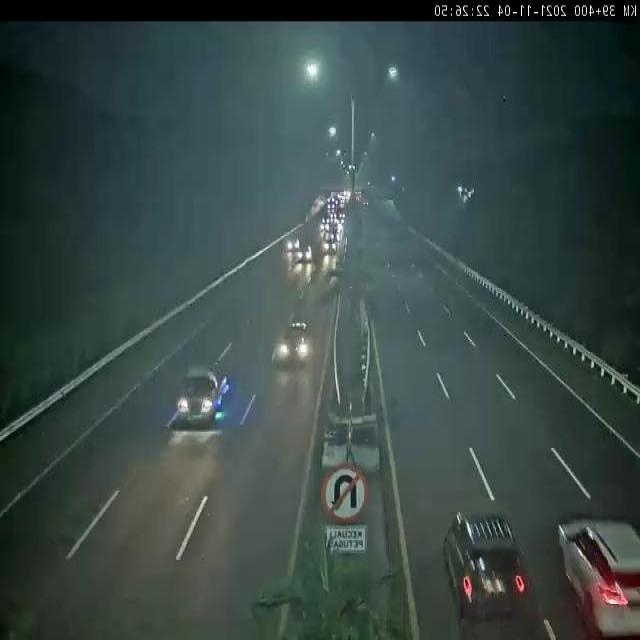Car: (445, 490, 529, 626), (563, 489, 638, 640), (166, 366, 239, 438), (269, 309, 326, 379), (291, 239, 313, 268)
